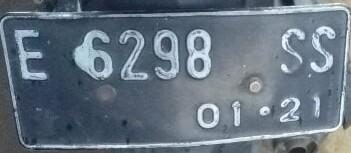clone-license-plate: (0, 9, 350, 149)
